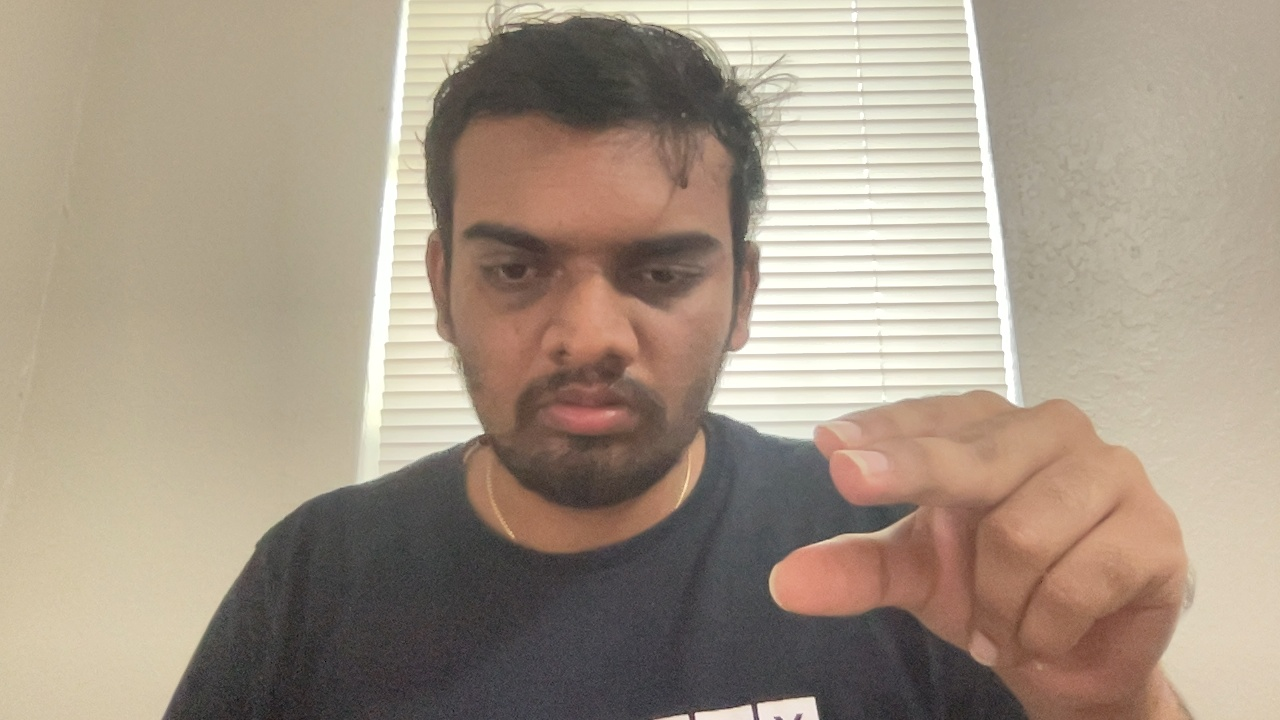no: (770, 373, 1195, 698)
